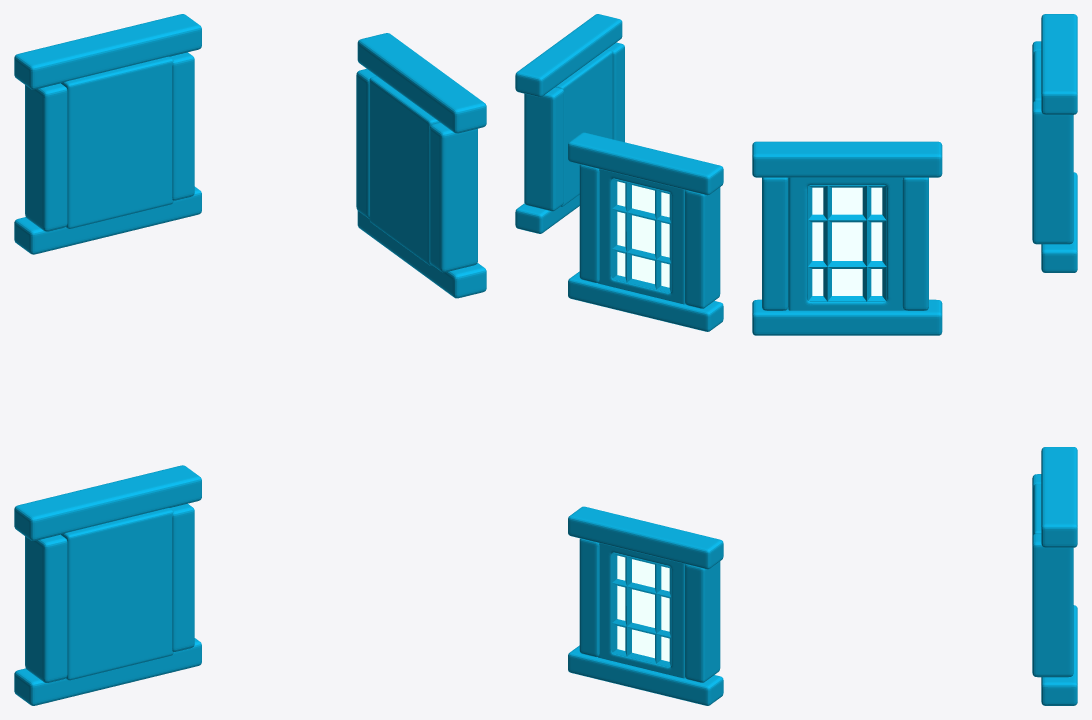
File: SM_Brick_Window_07.fbx
The picture shows the model from 3 angles, left to right: view 1: azimuth 30°, elevation 25°; view 2: azimuth 150°, elevation 25°; view 3: azimuth 270°, elevation 25°; orthographic projection. The views are drawn at different scales.
Visible parts, largest first — view 1: Cylinder_Piece_Piece.057; view 2: Cylinder_Piece_Piece.057; view 3: Cylinder_Piece_Piece.057.
Part boxes in pixels (<box>): Cylinder_Piece_Piece.057: <box>14,14,486,705</box>; Cylinder_Piece_Piece.057: <box>515,14,723,705</box>; Cylinder_Piece_Piece.057: <box>752,14,1077,705</box>.
Bounding box in the file's own units: 1.78 × 3.57 × 1.72.
